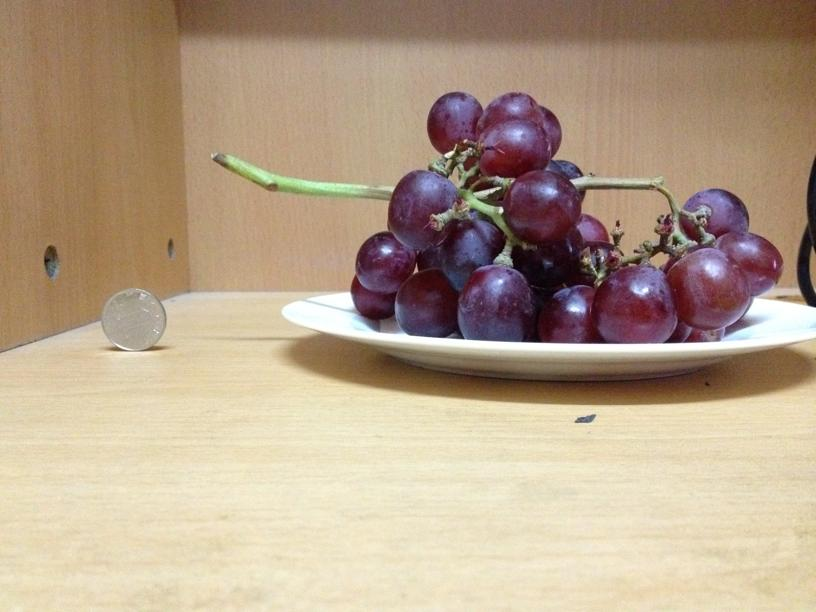coin: (96, 286, 167, 351)
grape: (350, 83, 787, 342)
